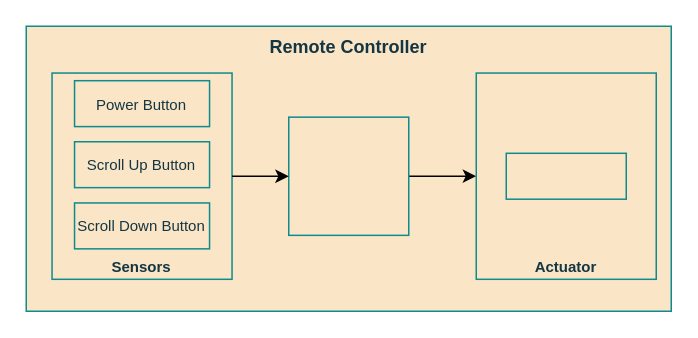
Some shapes in this 698 by 338 pixel diagram are drawn without their labels. The centre of each missing label's shape, as x and y in pixels:
"Controller" belongs at point (348, 175).
"Infrared Emitter" belongs at point (565, 175).
